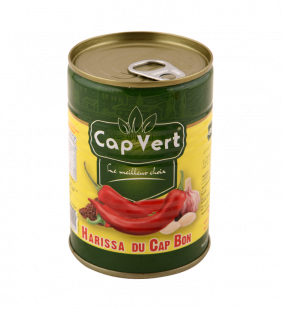CAP VERT: (61, 25, 220, 285)
